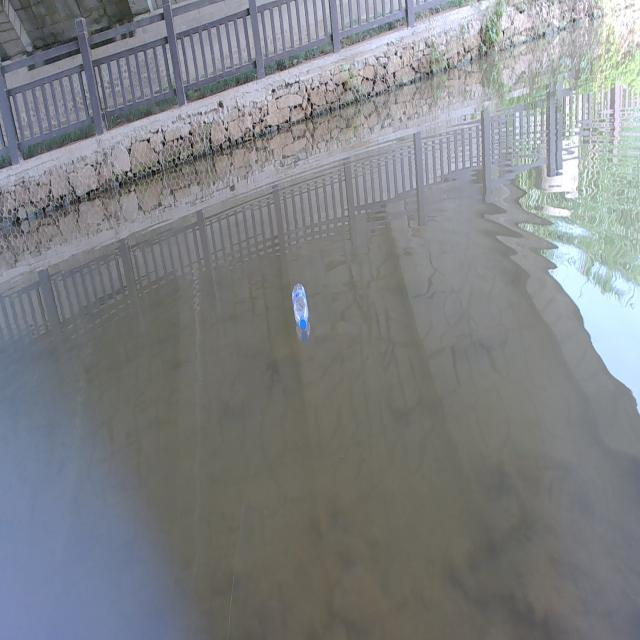garbage: (291, 282, 309, 330)
